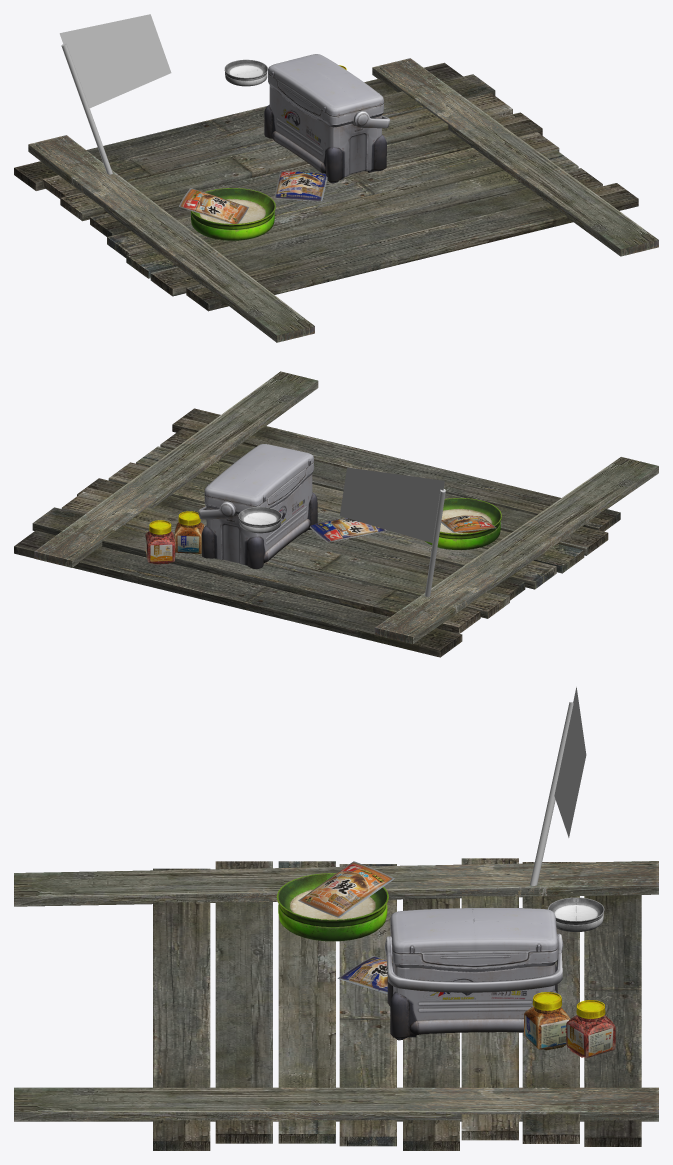
The model's file is 钓鱼场景_无光源.FBX.
3 views of the same model, one above another, from view 1: azimuth 30°, elevation 25°; view 2: azimuth 150°, elevation 25°; view 3: azimuth 270°, elevation 25° (orthographic). The views are drawn at different scales.
Visible parts, largest first — view 1: S_muban, S_yuxiang, Box001, S_yuliao, Object002, Object003; view 2: S_muban, S_yuxiang, Box001, S_yuliao, S_tuogan, Object002, Object003; view 3: S_muban, S_yuxiang, S_yuliao, S_tuogan, Box001, Object003, Object002.
Part boxes in pixels (left/top/right/bottom): S_muban: left=14, top=58, right=658, bottom=342; S_yuxiang: left=264, top=54, right=390, bottom=183; Box001: left=59, top=14, right=171, bottom=174; S_yuliao: left=179, top=188, right=275, bottom=240; Object002: left=274, top=170, right=327, bottom=201; Object003: left=224, top=59, right=267, bottom=86; S_muban: left=14, top=371, right=658, bottom=657; S_yuxiang: left=198, top=444, right=317, bottom=568; Box001: left=339, top=467, right=445, bottom=596; S_yuliao: left=425, top=498, right=501, bottom=550; S_tuogan: left=145, top=511, right=204, bottom=564; Object002: left=309, top=518, right=386, bottom=542; Object003: left=238, top=507, right=281, bottom=533; S_muban: left=14, top=858, right=658, bottom=1150; S_yuxiang: left=384, top=907, right=563, bottom=1040; S_yuliao: left=276, top=861, right=394, bottom=941; S_tuogan: left=524, top=992, right=615, bottom=1057; Box001: left=530, top=687, right=586, bottom=885; Object003: left=548, top=897, right=604, bottom=932; Object002: left=337, top=955, right=392, bottom=993.
Bounding box in the file's own units: 316 × 113 × 308.
